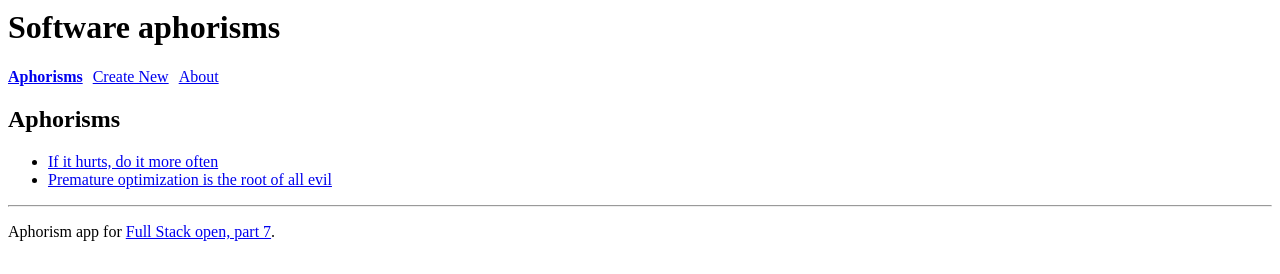
Scenario: App › view single anecdote › click and view
Click the link "If it hurts, do it more often". click: (133, 161)
box: [48,153,218,170]
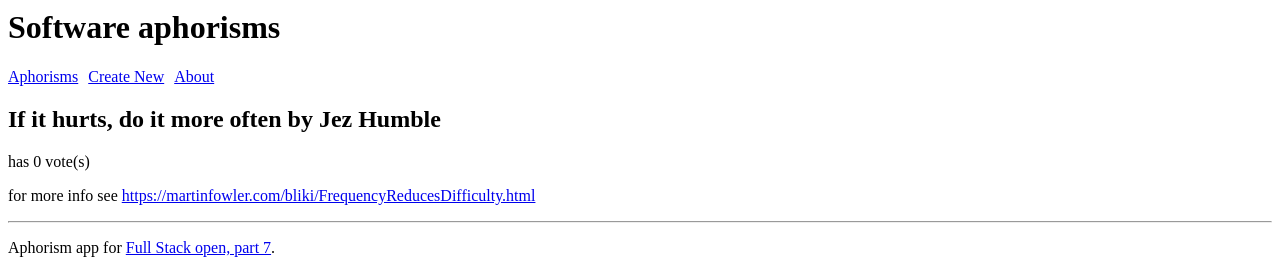
expect the element with test id "aphorisms" is gone: met
expect the heading "If it hurts, do it more often by Jez Humble" is shown: met, box [8,106,441,132]
expect the 4th link shows "martinfowler.com": met, box [122,187,535,204]
